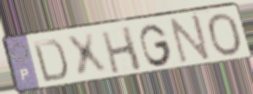D: (31, 38, 70, 84)
G: (138, 22, 175, 68)
H: (99, 24, 145, 76)
N: (169, 12, 213, 65)
O: (205, 11, 245, 58)
X: (63, 31, 111, 81)
